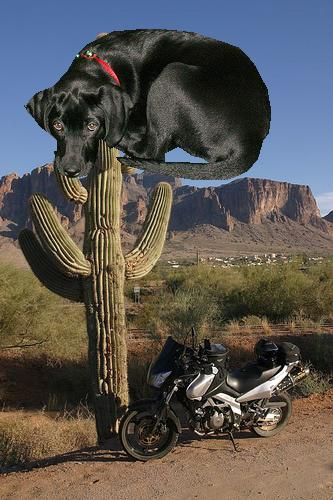tampered: (25, 30, 271, 180)
